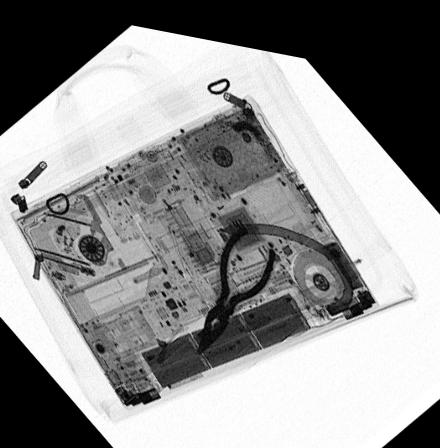Pliers: (193, 212, 279, 350)
